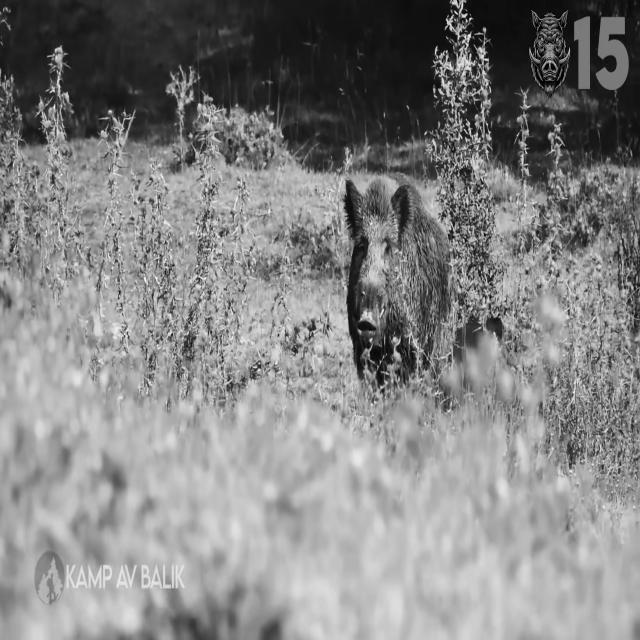boar: (344, 173, 452, 382)
